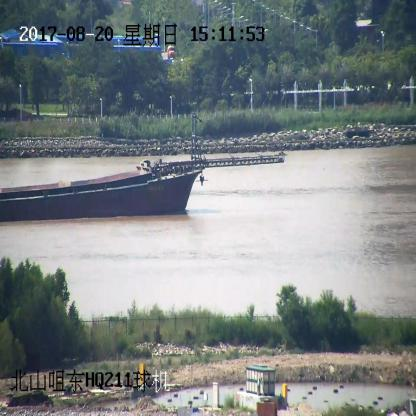Bulk Carrier: (0, 108, 285, 224)
